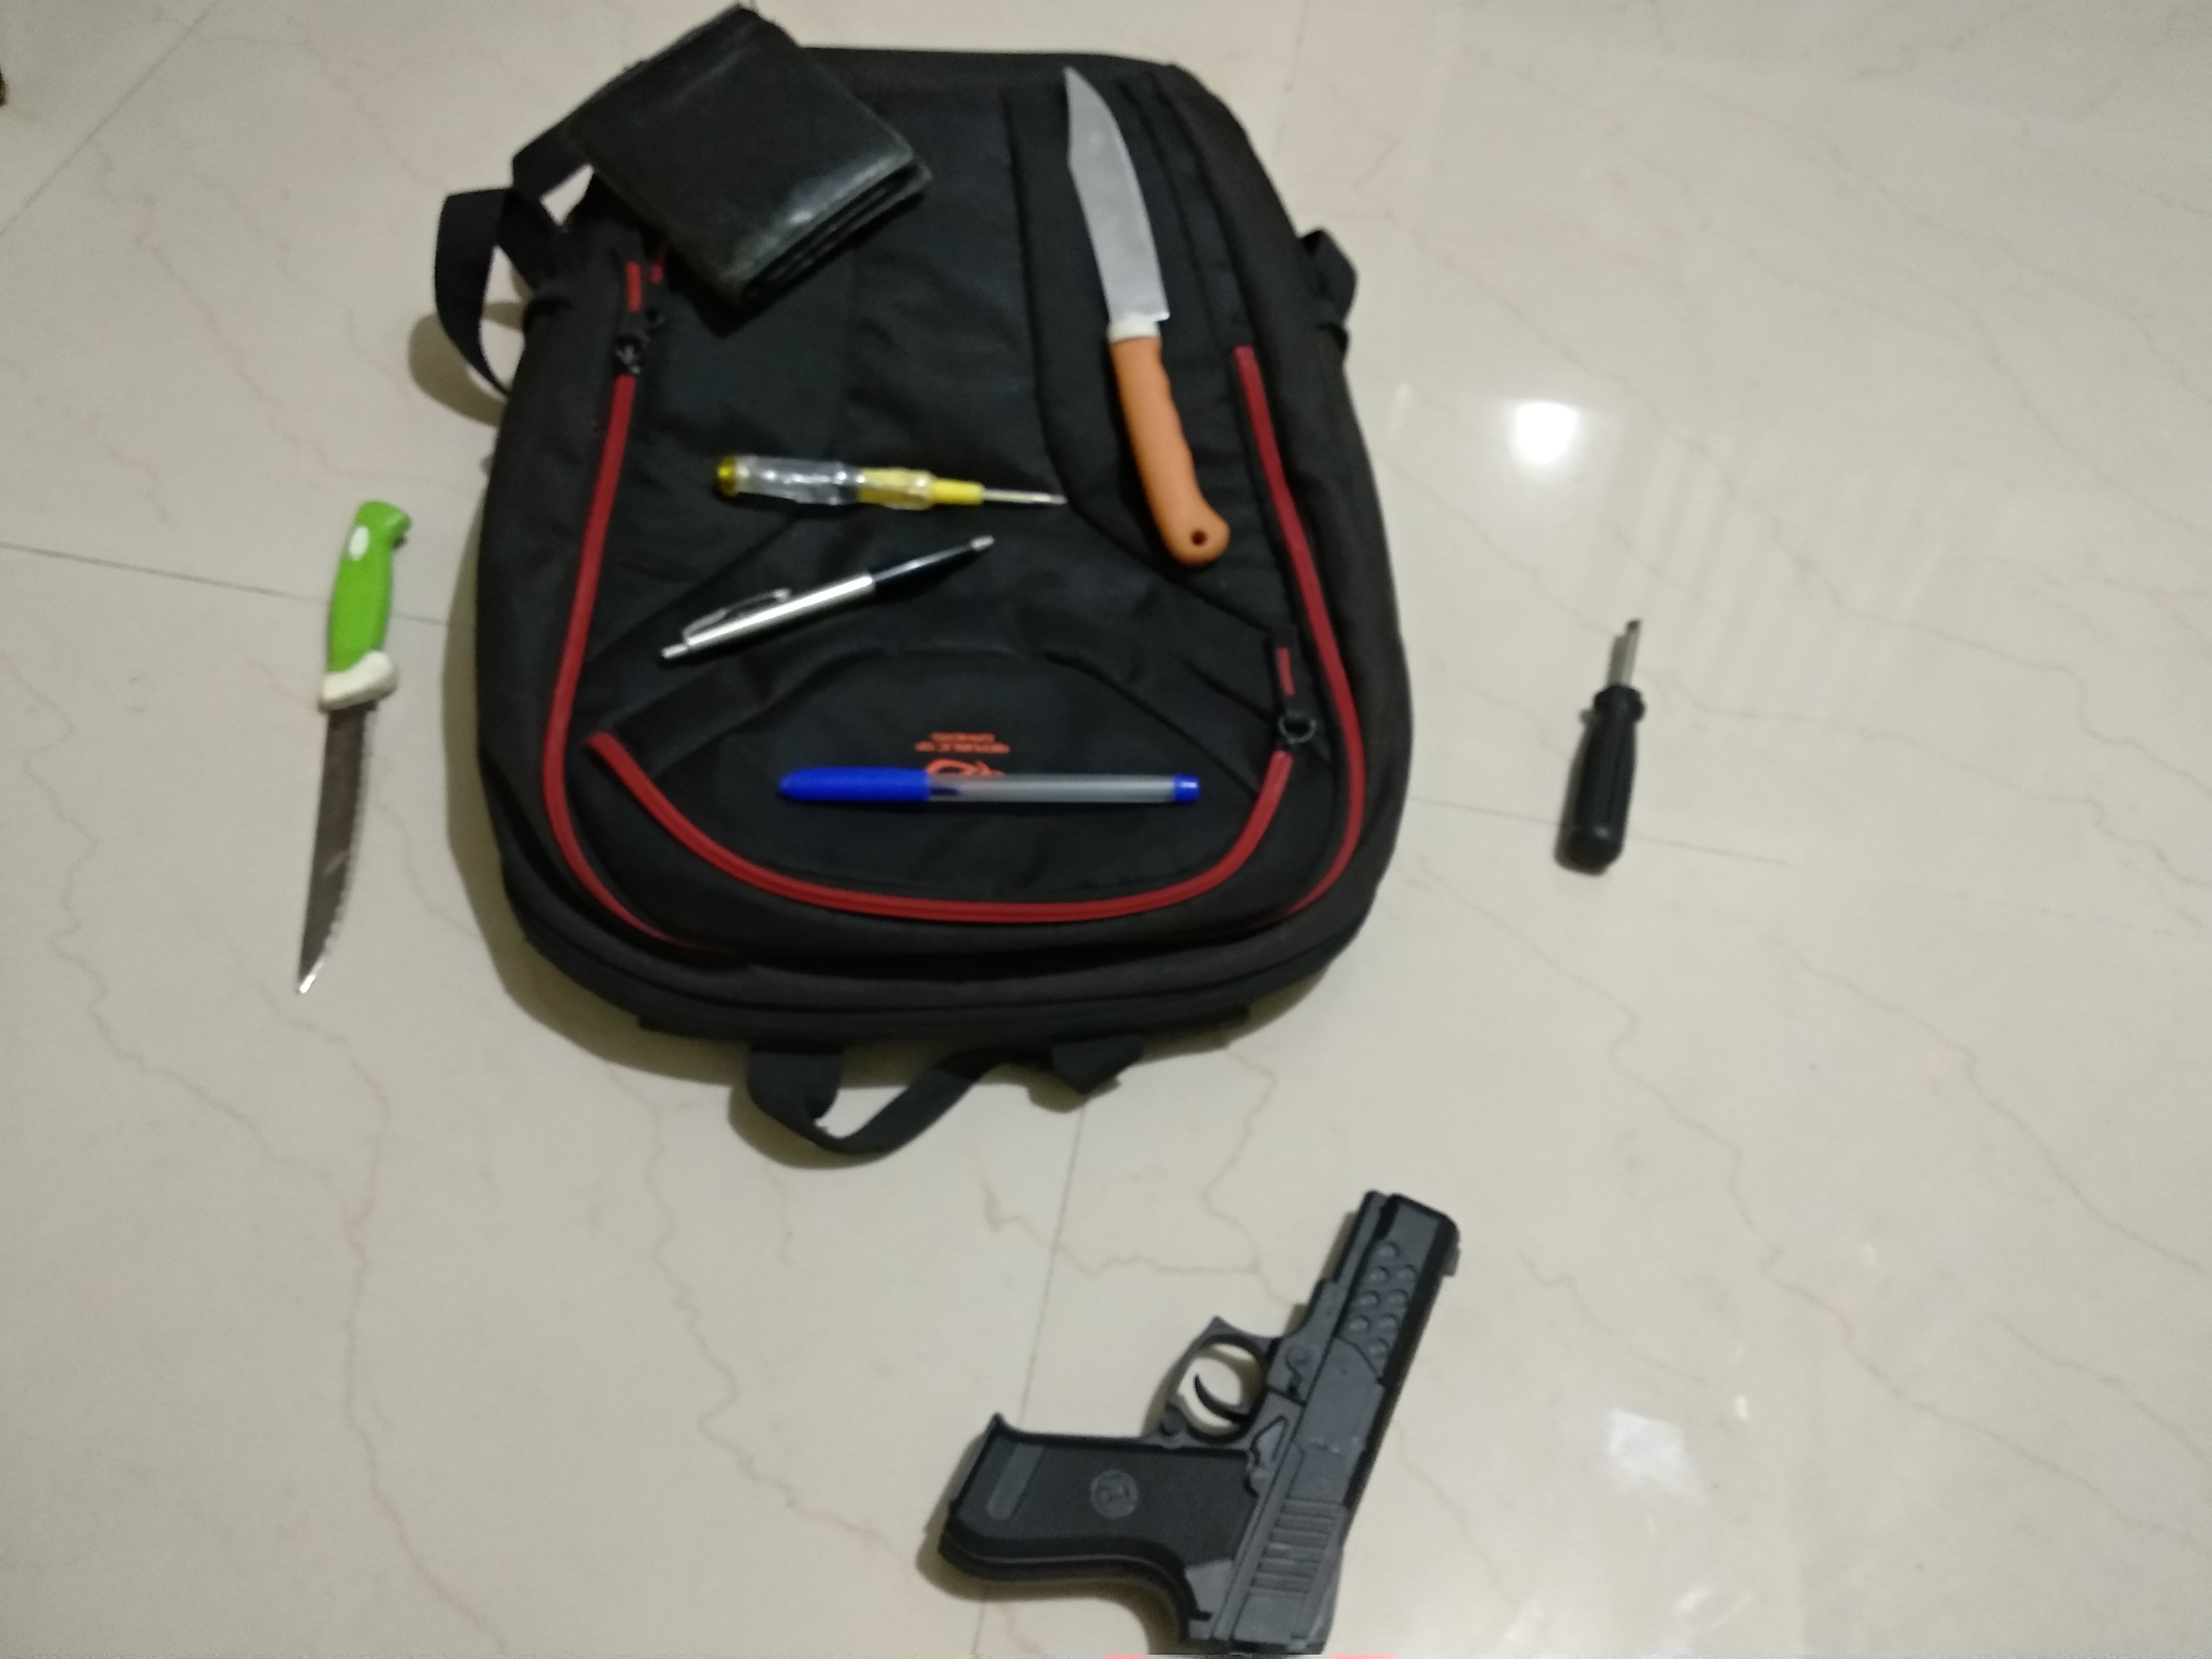gun: (934, 1183, 1501, 1659)
knife: (1054, 51, 1240, 570), (268, 497, 416, 1018)
none: (643, 530, 1005, 683), (765, 762, 1200, 802)
none2: (571, 24, 887, 289)
none3: (1547, 591, 1672, 882), (695, 430, 1099, 514)
